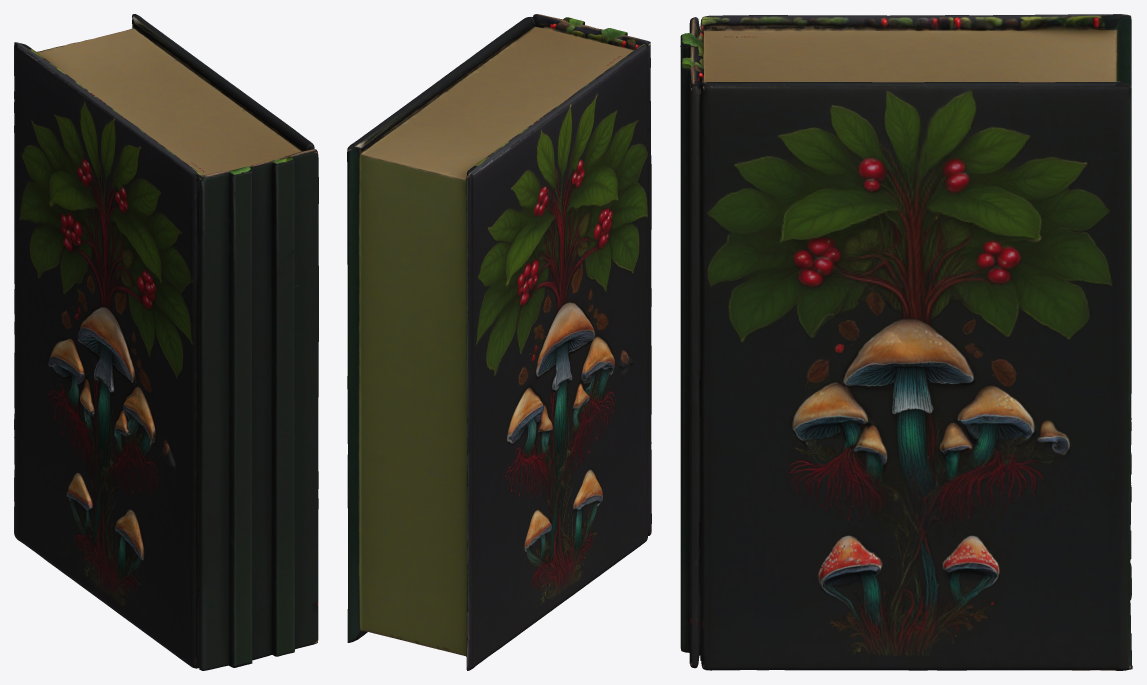
Rendered from Mushroom_Symphony_0703042439_texture (1) (1).glb.
The picture shows the model from 3 angles, left to right: view 1: azimuth 30°, elevation 25°; view 2: azimuth 150°, elevation 25°; view 3: azimuth 270°, elevation 25°; orthographic projection. The views are drawn at different scales.
Visible parts, largest first — view 1: Node #0; view 2: Node #0; view 3: Node #0.
Part boxes in pixels (x1=…): Node #0: x1=14, y1=14, x2=318, y2=670; Node #0: x1=347, y1=14, x2=651, y2=670; Node #0: x1=680, y1=14, x2=1132, y2=670.
Size of the model in its own units: 0.5617 by 2.01 by 1.4.
1 material, 1 textured.
